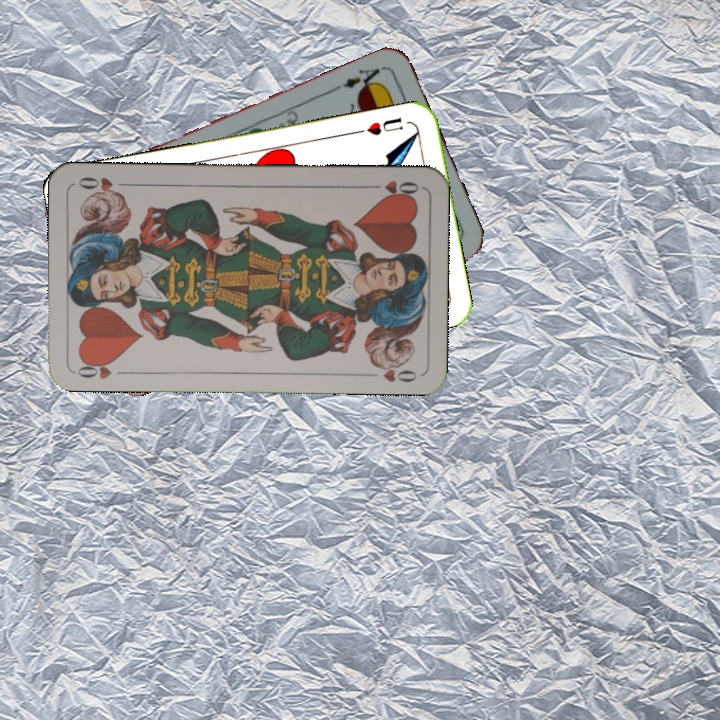EA: (331, 62, 387, 95)
HO: (73, 356, 131, 382), (364, 176, 422, 200)
HU: (353, 113, 406, 138)
